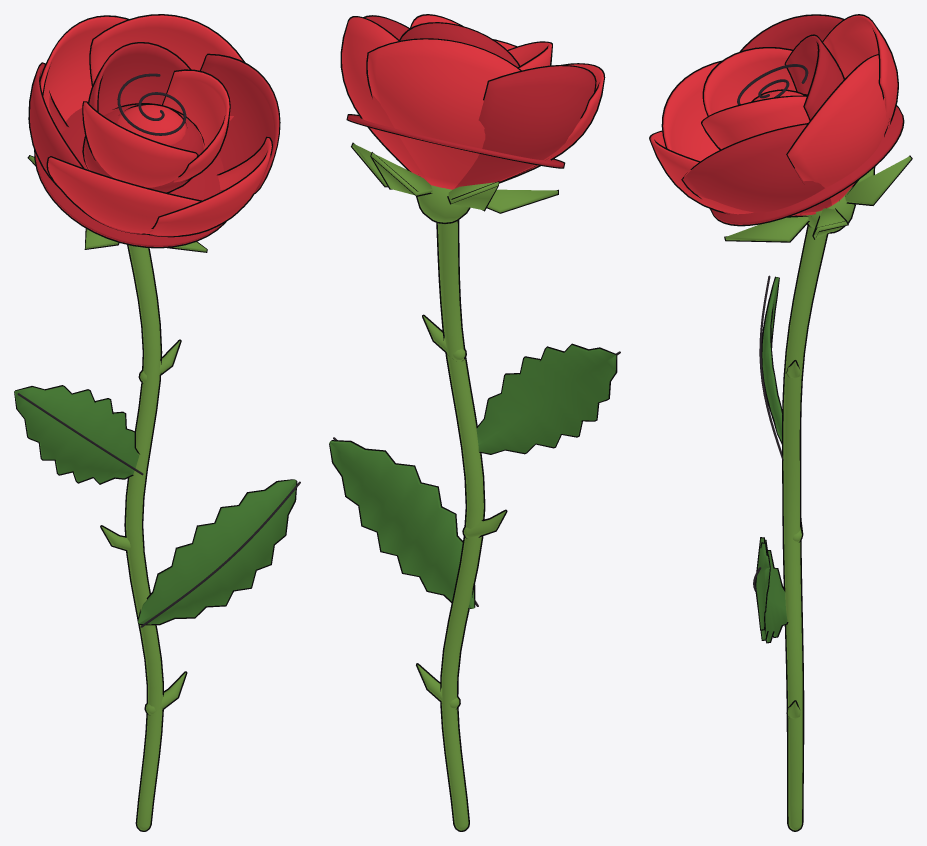
The model's file is rose_toon.glb.
3 views of the same model, side by side, from view 1: azimuth 30°, elevation 25°; view 2: azimuth 150°, elevation 25°; view 3: azimuth 270°, elevation 25° (orthographic). The views are drawn at different scales.
Visible parts, largest first — view 1: Serrated_leaf_2, Curved_stem, Serrated_leaf_1, Outer_petal_3, Outer_petal_1, Inner_petal_2, Outer_petal_6, Closed_corolla_base, Inner_petal_3, Outer_petal_2, Inner_petal_1, Outer_petal_5 (+6 smaller); view 2: Outer_petal_5, Curved_stem, Serrated_leaf_2, Serrated_leaf_1, Outer_petal_4, Outer_petal_6, Inner_petal_3, Closed_corolla_base, Outer_petal_3, Calyx_sepal_4, Calyx_base, Calyx_sepal_2 (+4 smaller); view 3: Curved_stem, Outer_petal_6, Outer_petal_1, Inner_petal_2, Outer_petal_5, Inner_petal_1, Outer_petal_3, Inner_petal_3, Closed_corolla_base, Serrated_leaf_2, Outer_petal_4, Outer_petal_2 (+7 smaller).
Part boxes in pixels (x1=…): Serrated_leaf_2: x1=137, y1=479, x2=297, y2=625; Curved_stem: x1=124, y1=245, x2=163, y2=831; Serrated_leaf_1: x1=14, y1=385, x2=139, y2=484; Outer_petal_3: x1=46, y1=156, x2=201, y2=234; Outer_petal_1: x1=200, y1=53, x2=280, y2=195; Inner_petal_2: x1=82, y1=101, x2=198, y2=187; Outer_petal_6: x1=89, y1=14, x2=245, y2=121; Closed_corolla_base: x1=34, y1=108, x2=226, y2=248; Inner_petal_3: x1=88, y1=42, x2=191, y2=115; Outer_petal_2: x1=142, y1=136, x2=272, y2=237; Inner_petal_1: x1=162, y1=69, x2=230, y2=182; Outer_petal_5: x1=40, y1=15, x2=128, y2=121; Outer_petal_5: x1=366, y1=38, x2=521, y2=189; Curved_stem: x1=436, y1=220, x2=485, y2=831; Serrated_leaf_2: x1=329, y1=440, x2=475, y2=608; Serrated_leaf_1: x1=476, y1=343, x2=617, y2=454; Outer_petal_4: x1=454, y1=65, x2=596, y2=188; Outer_petal_6: x1=340, y1=16, x2=428, y2=182; Inner_petal_3: x1=399, y1=22, x2=519, y2=66; Closed_corolla_base: x1=346, y1=114, x2=565, y2=168; Outer_petal_3: x1=499, y1=63, x2=605, y2=183; Calyx_sepal_4: x1=370, y1=152, x2=432, y2=196; Calyx_base: x1=416, y1=185, x2=470, y2=223; Calyx_sepal_2: x1=487, y1=189, x2=558, y2=213; Curved_stem: x1=782, y1=224, x2=828, y2=831; Outer_petal_6: x1=786, y1=54, x2=889, y2=205; Outer_petal_1: x1=681, y1=123, x2=839, y2=215; Inner_petal_2: x1=702, y1=47, x2=795, y2=116; Outer_petal_5: x1=822, y1=14, x2=898, y2=186; Inner_petal_1: x1=701, y1=95, x2=809, y2=149; Outer_petal_3: x1=661, y1=60, x2=721, y2=161; Inner_petal_3: x1=784, y1=34, x2=844, y2=120; Closed_corolla_base: x1=710, y1=105, x2=904, y2=226; Serrated_leaf_2: x1=755, y1=537, x2=788, y2=643; Outer_petal_4: x1=739, y1=14, x2=843, y2=51; Outer_petal_2: x1=649, y1=130, x2=815, y2=217.
Size of the model in its own units: 0.1925 by 0.5201 by 0.156.
